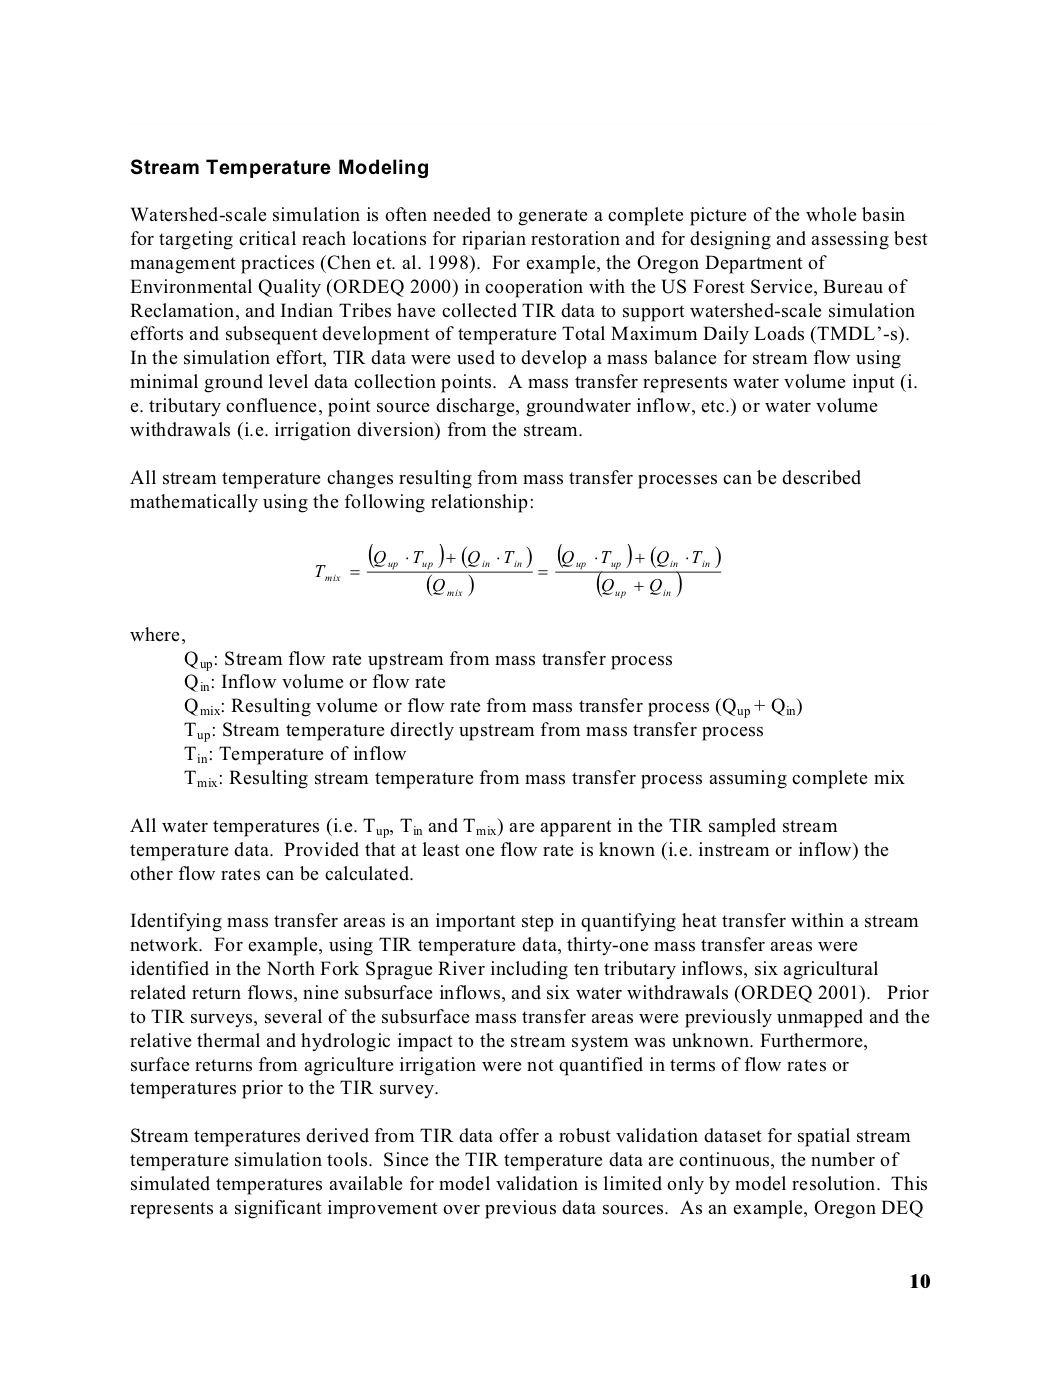formula: (315, 542, 721, 598)
